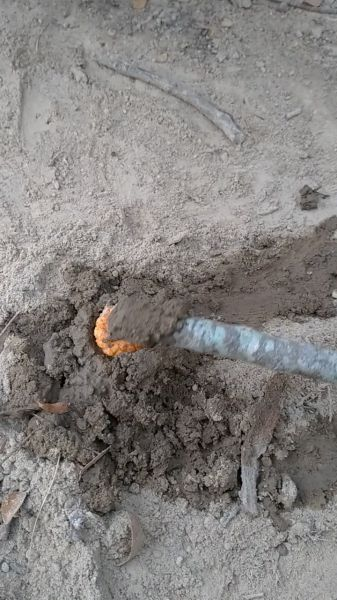eggs: (87, 299, 152, 364)
